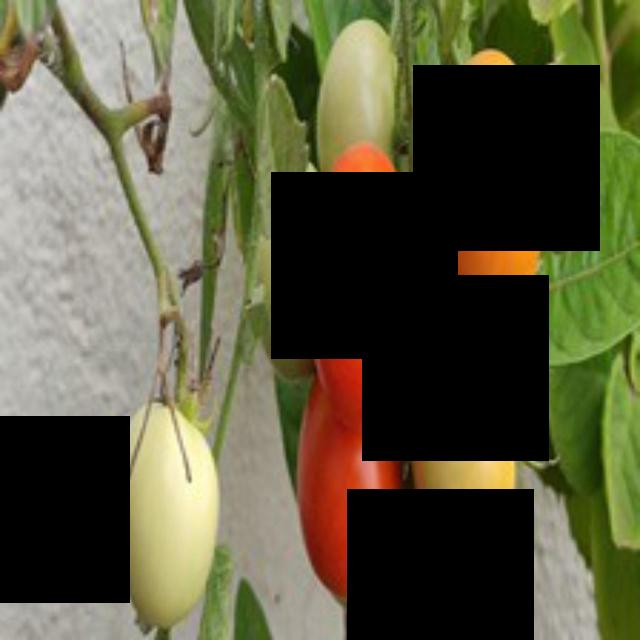tomato: (296, 146, 436, 454)
